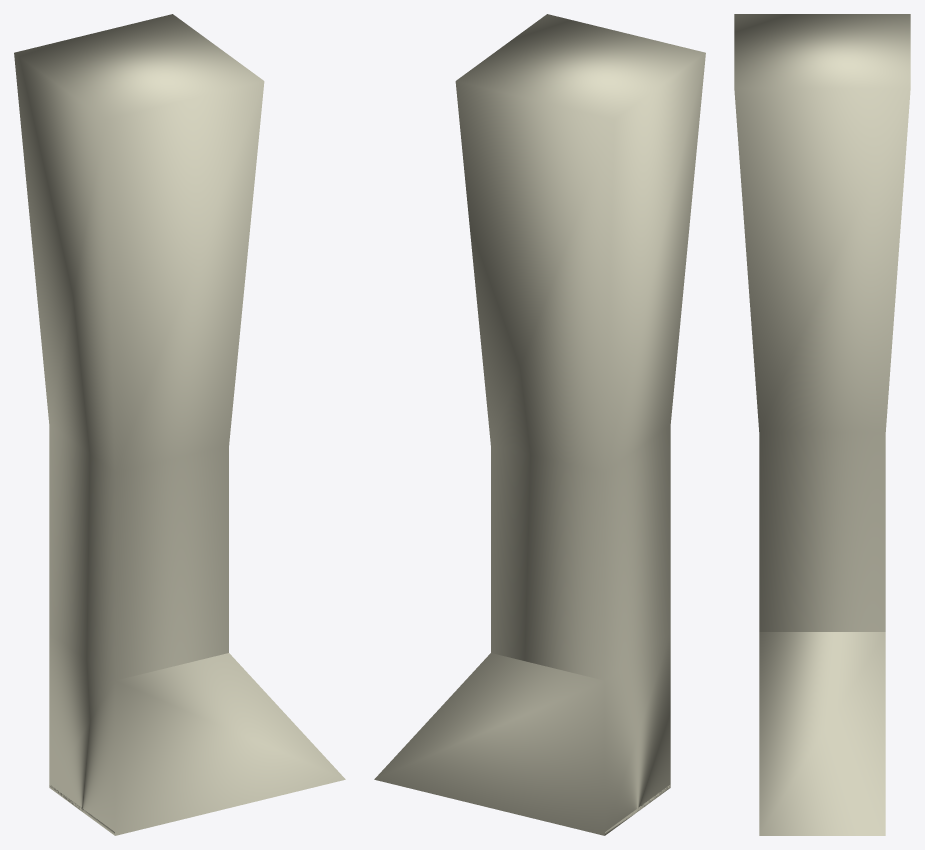
The model's file is leftleg.glb.
The picture shows the model from 3 angles, left to right: view 1: azimuth 30°, elevation 25°; view 2: azimuth 150°, elevation 25°; view 3: azimuth 270°, elevation 25°; orthographic projection. The views are drawn at different scales.
Visible parts, largest first — view 1: Cube.003; view 2: Cube.003; view 3: Cube.003.
Boxes of the visible parts, x1,y1,x2,y2 form: Cube.003: (14, 14, 345, 835); Cube.003: (374, 14, 705, 835); Cube.003: (734, 14, 910, 835).
Bounding box in the file's own units: 4.44 × 12.25 × 2.78.
